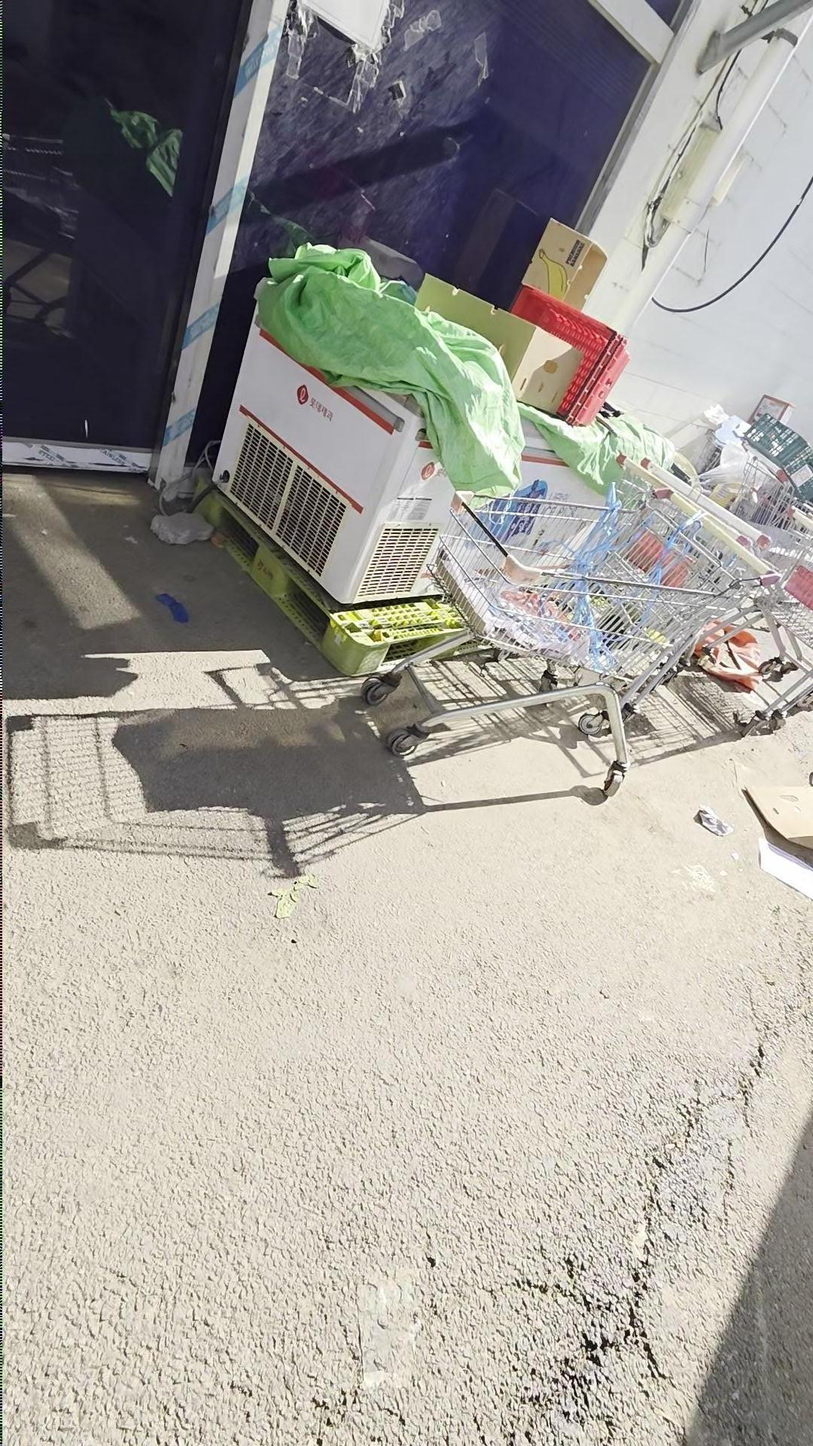empty_cart: (362, 482, 800, 795)
